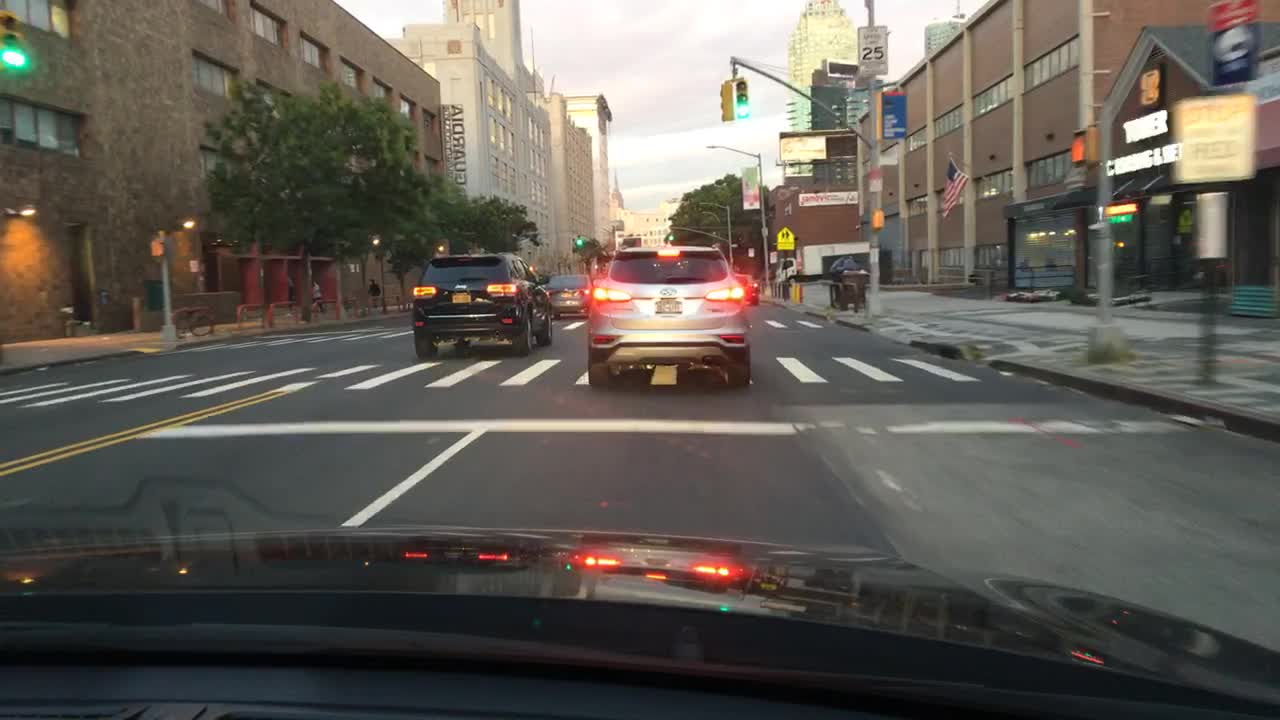car: (582, 240, 753, 393), (410, 249, 552, 357), (542, 272, 590, 319), (733, 271, 758, 305)
person: (840, 255, 859, 280), (308, 281, 323, 309), (366, 279, 380, 305), (288, 275, 295, 308)
traffic light: (1, 9, 21, 70), (1071, 126, 1095, 168), (721, 81, 733, 119), (735, 81, 748, 116), (149, 239, 167, 255), (576, 237, 581, 248)
traffic sign: (854, 26, 886, 75), (775, 227, 793, 251)
truck: (774, 243, 867, 288)
